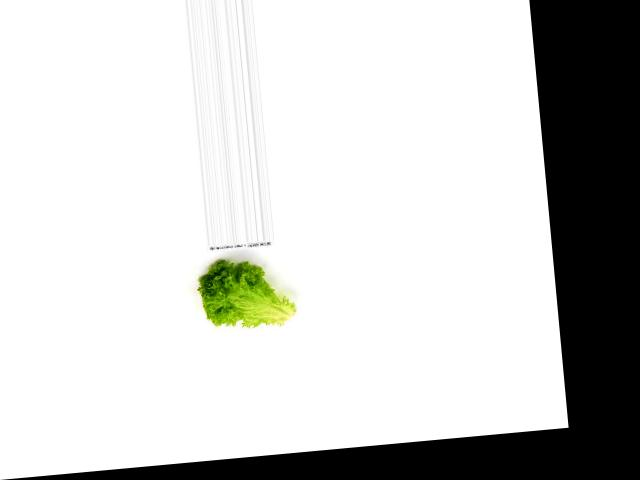lettuce: (191, 253, 296, 336)
